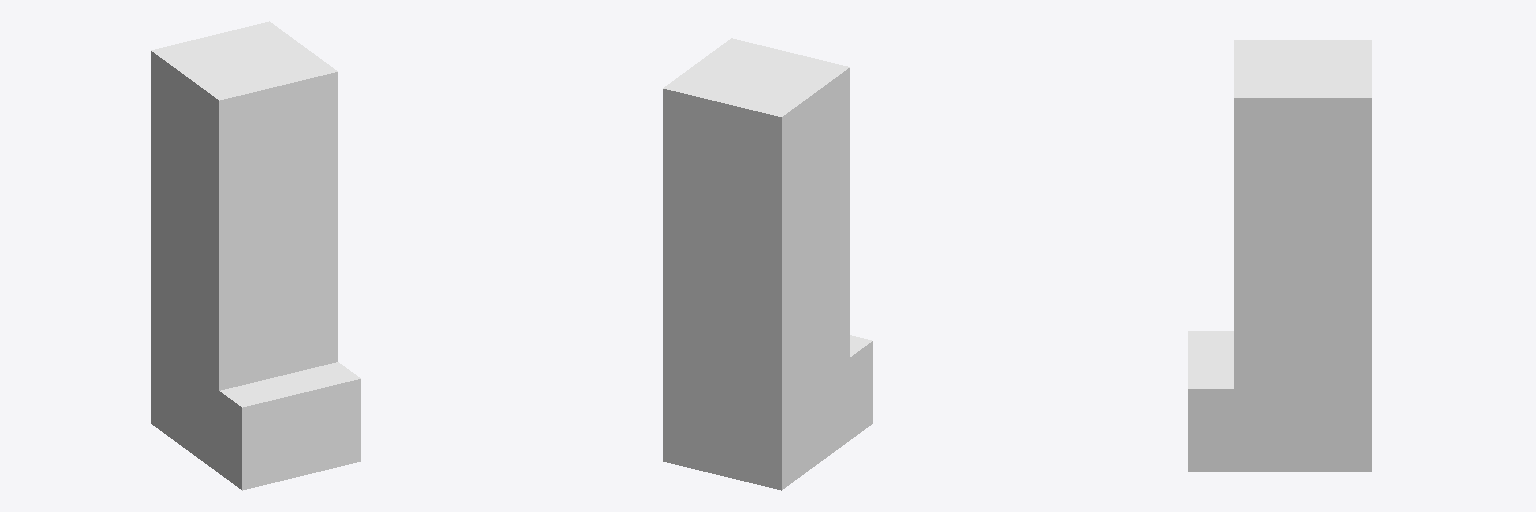
Rendered from alice_Lleg2.obj.
3 views of the same model, side by side, from view 1: azimuth 30°, elevation 25°; view 2: azimuth 150°, elevation 25°; view 3: azimuth 270°, elevation 25° (orthographic).
Parts seen in each view (by area): view 1: object 1; view 2: object 1; view 3: object 1.
Part boxes in pixels (x1,y1,x2,y2): object 1: (151,21,360,490); object 1: (663,38,872,490); object 1: (1188,40,1371,471).
Bounding box in the file's own units: 0.3 × 0.9 × 0.4.